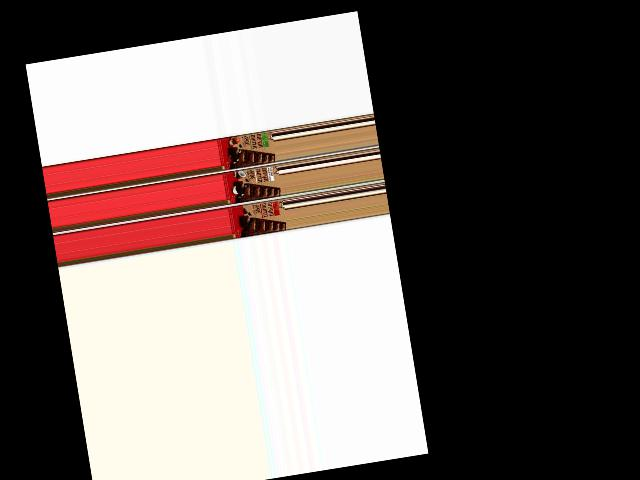chocolate: (215, 128, 276, 170)
